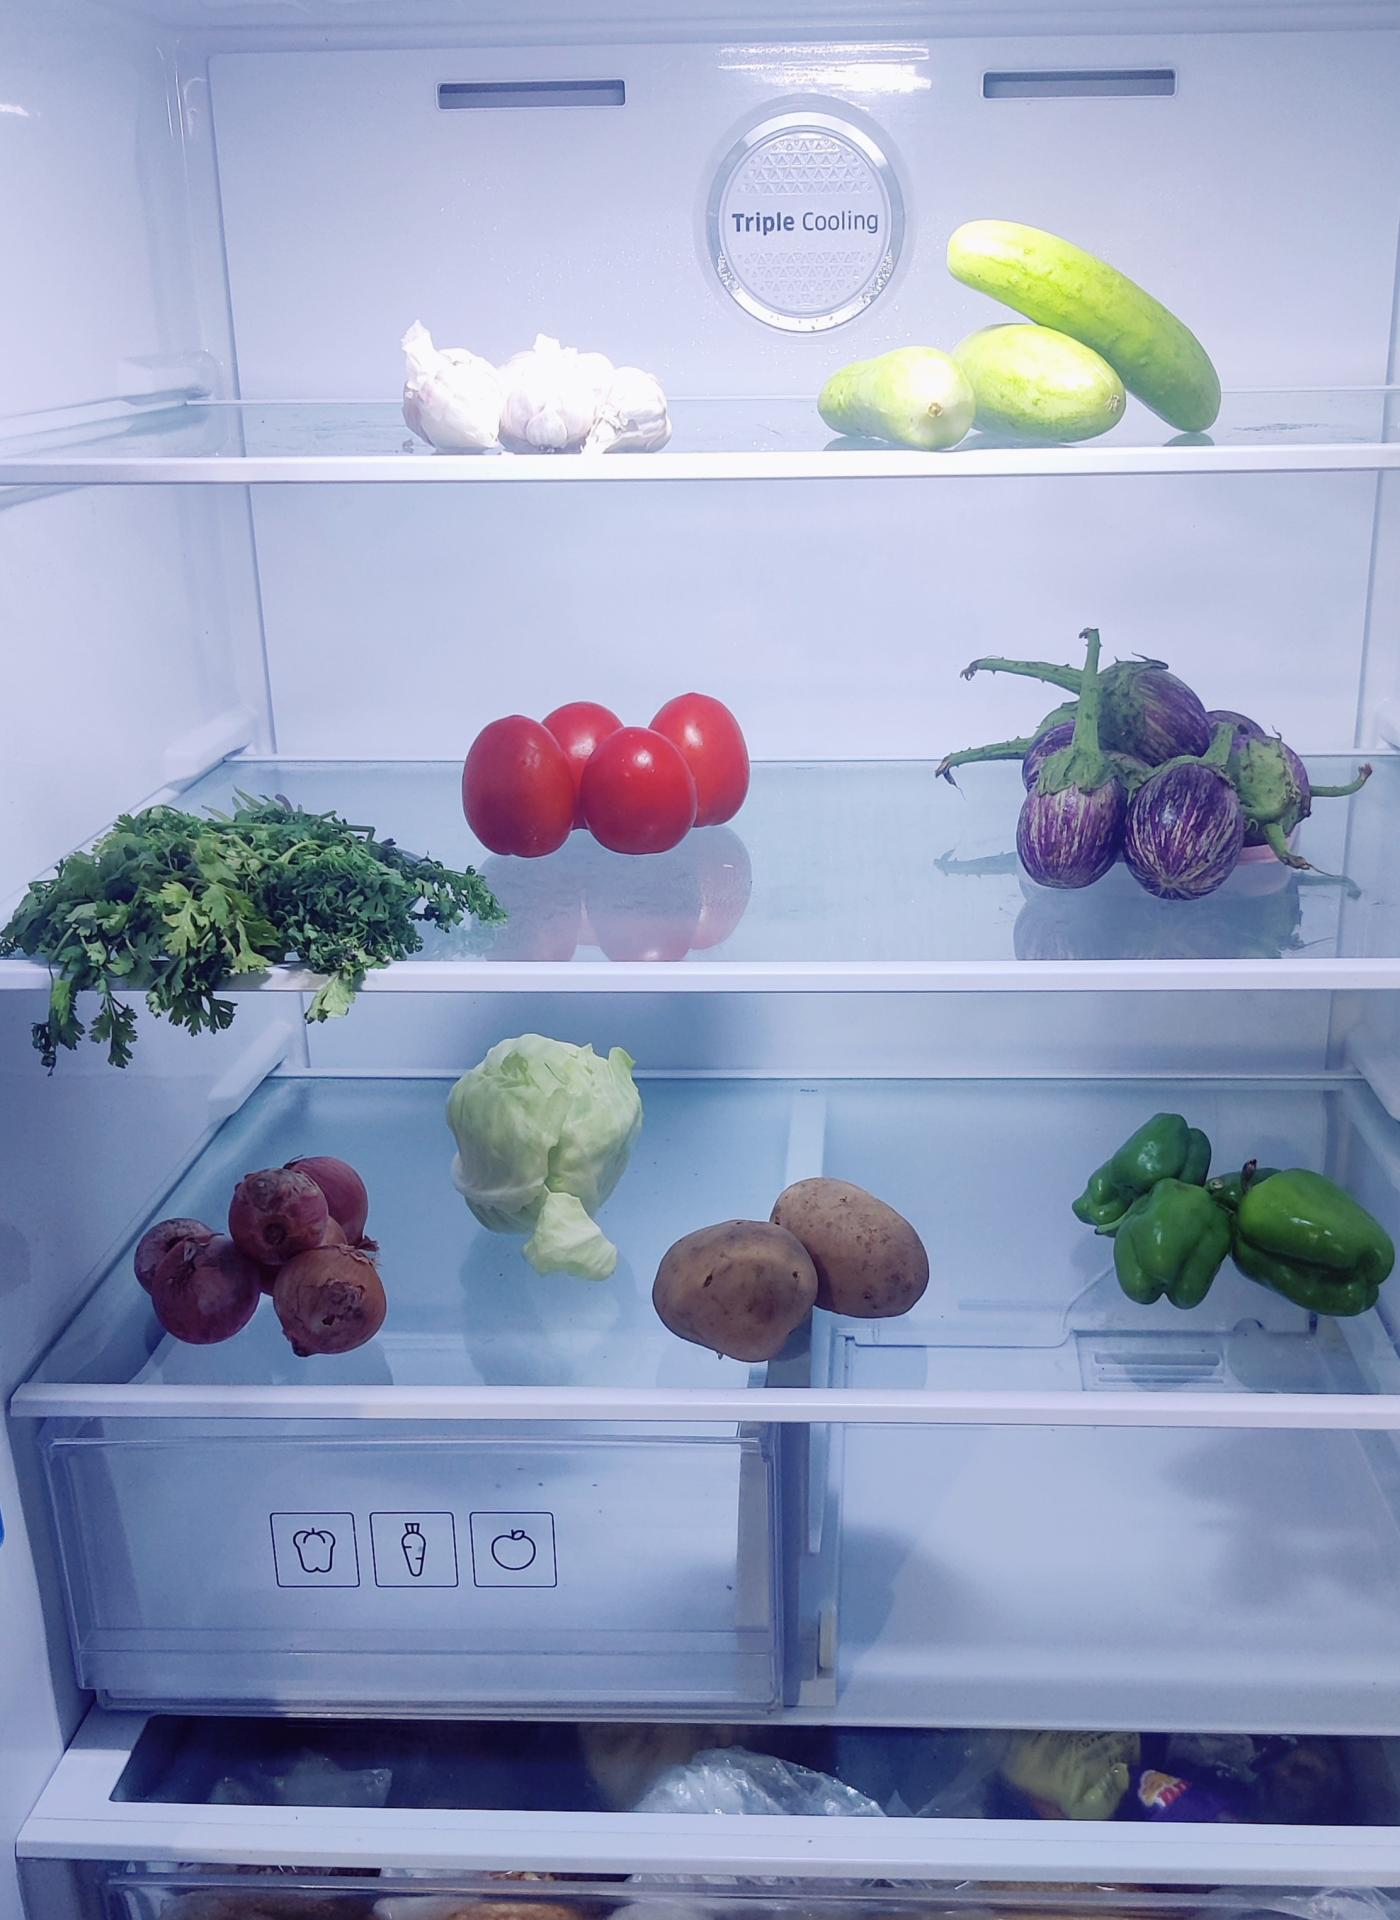brinjal: (975, 644, 1317, 890)
cabbage: (452, 1033, 647, 1246)
capsicum: (1081, 1114, 1400, 1318)
coriander: (16, 795, 494, 991)
cucumber: (954, 227, 1235, 449), (817, 346, 984, 450)
garlic: (398, 319, 666, 458)
onion: (142, 1157, 394, 1354)
potato: (650, 1172, 933, 1360)
tomato: (468, 696, 759, 865)
